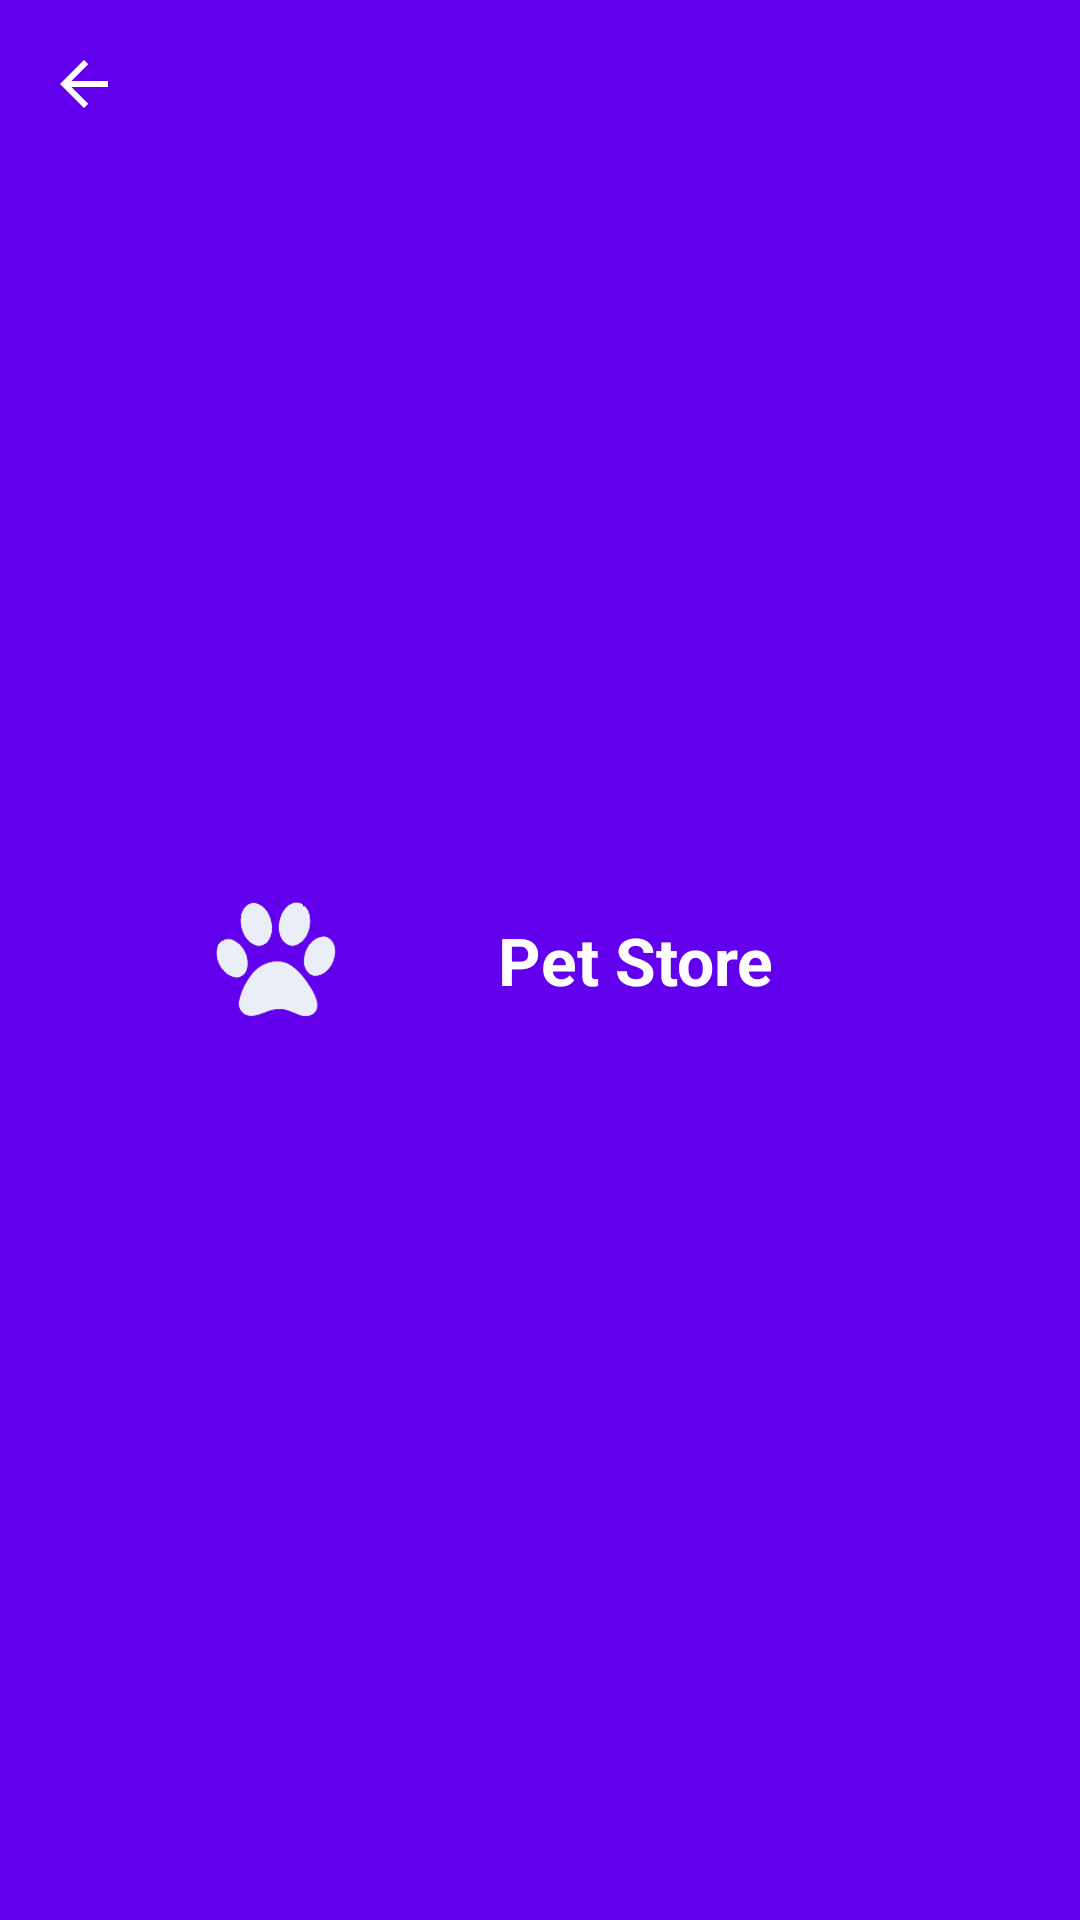

Icon bounding boxes for this 1080*1920 phone screenshot, format bbox(x1, y1, x2, y2):
huellapet: bbox(216, 902, 336, 1016)
